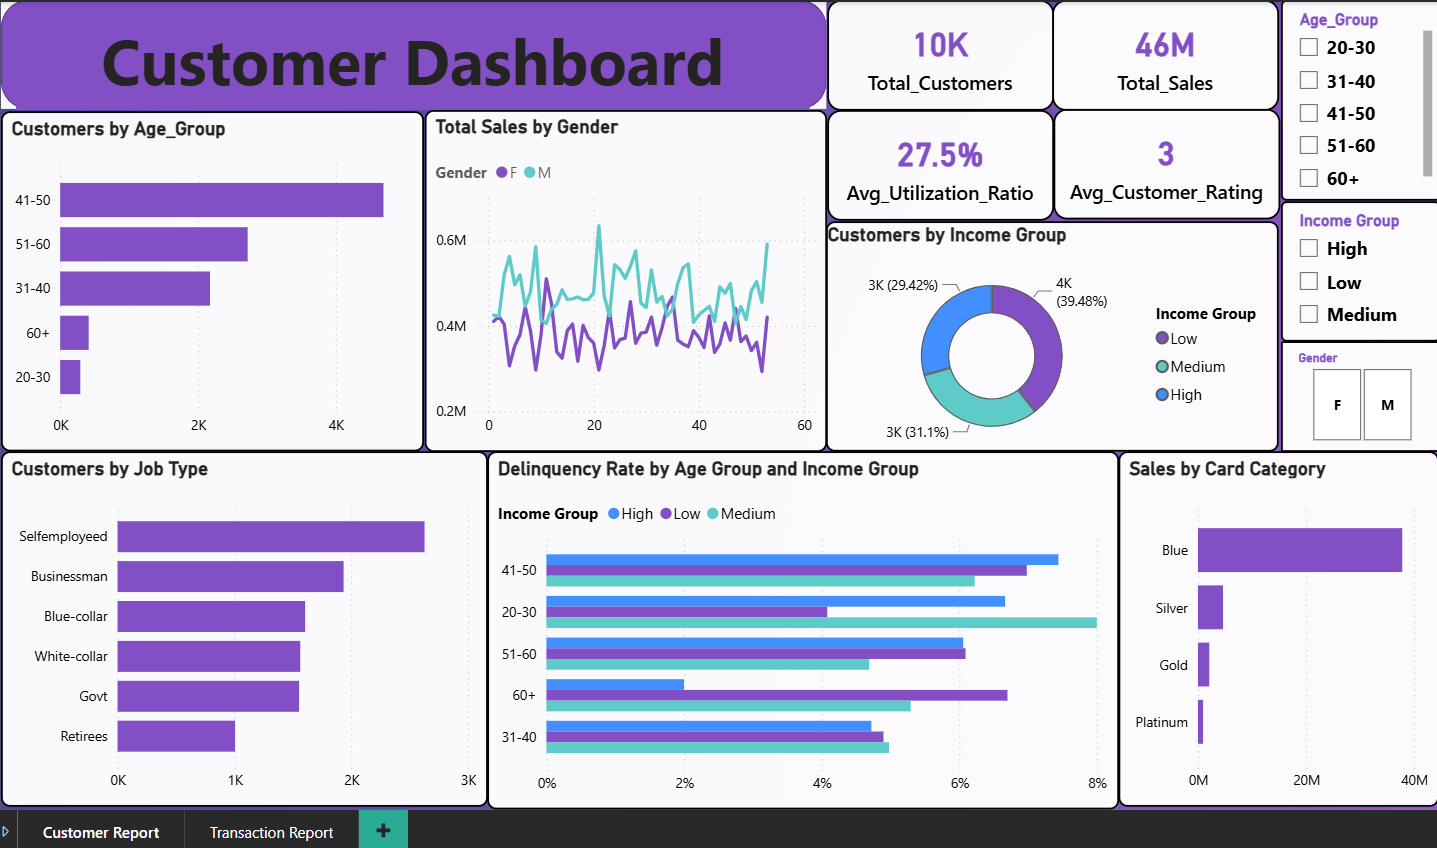

The dashboard page shown, as its layout file describes it:
{"tool":"powerbi","page":{"name":"Customer Report","canvas":[1280,720],"ordinal":0},"visuals":[{"type":"slicer","fields":{"Values":["Customer.Income Group"]},"box":[1137.6,178.4,141.3,124.9],"z":0},{"type":"slicer","fields":{"Values":["Customer.Age_Group"]},"box":[1137.6,0,142.7,178.4],"z":1000},{"type":"slicer","fields":{"Values":["Customer.Gender"]},"box":[1137.6,303.3,142.7,98.8],"z":2000},{"type":"shape","box":[0,0,733.9,97],"z":3000},{"type":"textbox","box":[13.7,9.6,705.3,87.8],"z":4000},{"type":"card","fields":{"Values":["Customer.Total_Customers"]},"box":[734.1,0,201.7,98.8],"z":5000},{"type":"card","fields":{"Values":["Customer.Avg_Income"]},"box":[935.9,0,201.7,98.8],"z":6000},{"type":"card","fields":{"Values":["Customer.Delinquency_Rate"]},"box":[935.9,97.4,201.7,98.8],"z":7000},{"type":"card","fields":{"Values":["Customer.Avg_Utilization_Ratio"]},"box":[734.1,97.4,201.7,98.8],"z":8000},{"type":"clusteredBarChart","title":"Customers by Age_Group","fields":{"Category":["Customer.Age_Group"],"Y":["Customer.Total_Customers"]},"box":[0,98.3,393.1,303.5],"z":9000},{"type":"donutChart","title":"Customers by Income Group","fields":{"Category":["Customer.Income Group"],"Y":["Customer.Total_Customers"]},"box":[393.1,98.3,340.8,303.5],"z":10000},{"type":"clusteredBarChart","title":"Revenue by Card_Category","fields":{"Y":["Customer.Total_Revenue"],"Category":["Transaction.Card_Category"]},"box":[733.9,195.3,403.4,205.8],"z":11000},{"type":"clusteredBarChart","fields":{"Y":["Customer.Delinquency_Rate"],"Category":["Customer.Age_Group"],"Series":["Customer.Income Group"]},"box":[658.7,402.1,620.2,318.4],"z":12000},{"type":"clusteredBarChart","fields":{"Y":["Customer.Avg_Satisfaction_Score"],"Category":["Customer.Marital_Status"],"Series":["Customer.Education_Level"]},"box":[0,401.8,658.1,318.5],"z":13000}]}

Visuals, with their boxes on the page's 1280x720 design canvas (x1, y1, x2, y2). These are canvas units, not pixel positions in the 1437x848 screenshot, which may show the page scaled, cropped or inside an application window:
slicer - Customer.Income Group: box(1138, 178, 1279, 303)
slicer - Customer.Age_Group: box(1138, 0, 1280, 178)
slicer - Customer.Gender: box(1138, 303, 1280, 402)
shape: box(0, 0, 734, 97)
textbox: box(14, 10, 719, 97)
card - Customer.Total_Customers: box(734, 0, 936, 99)
card - Customer.Avg_Income: box(936, 0, 1138, 99)
card - Customer.Delinquency_Rate: box(936, 97, 1138, 196)
card - Customer.Avg_Utilization_Ratio: box(734, 97, 936, 196)
"Customers by Age_Group" clusteredBarChart: box(0, 98, 393, 402)
"Customers by Income Group" donutChart: box(393, 98, 734, 402)
"Revenue by Card_Category" clusteredBarChart: box(734, 195, 1137, 401)
clusteredBarChart - Customer.Delinquency_Rate x Customer.Age_Group: box(659, 402, 1279, 720)
clusteredBarChart - Customer.Avg_Satisfaction_Score x Customer.Marital_Status: box(0, 402, 658, 720)
